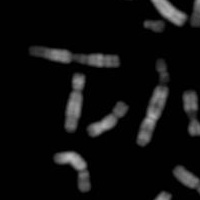chromosome: (28, 45, 121, 68), (137, 86, 169, 147), (86, 101, 129, 138), (53, 150, 90, 193), (64, 73, 85, 132), (147, 0, 186, 26), (173, 166, 200, 200), (183, 91, 200, 136), (154, 57, 171, 84), (141, 18, 164, 33), (145, 190, 172, 200), (191, 0, 200, 27)
